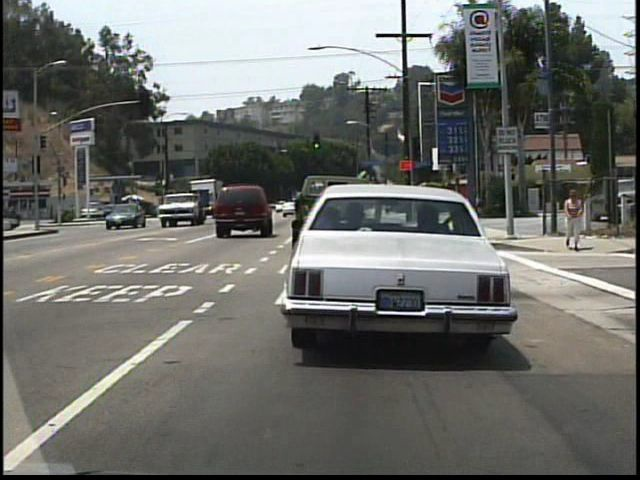person: (562, 184, 584, 250)
